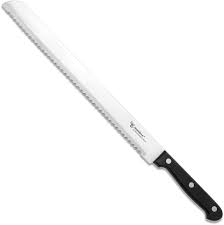breadknife: (1, 1, 224, 225)
